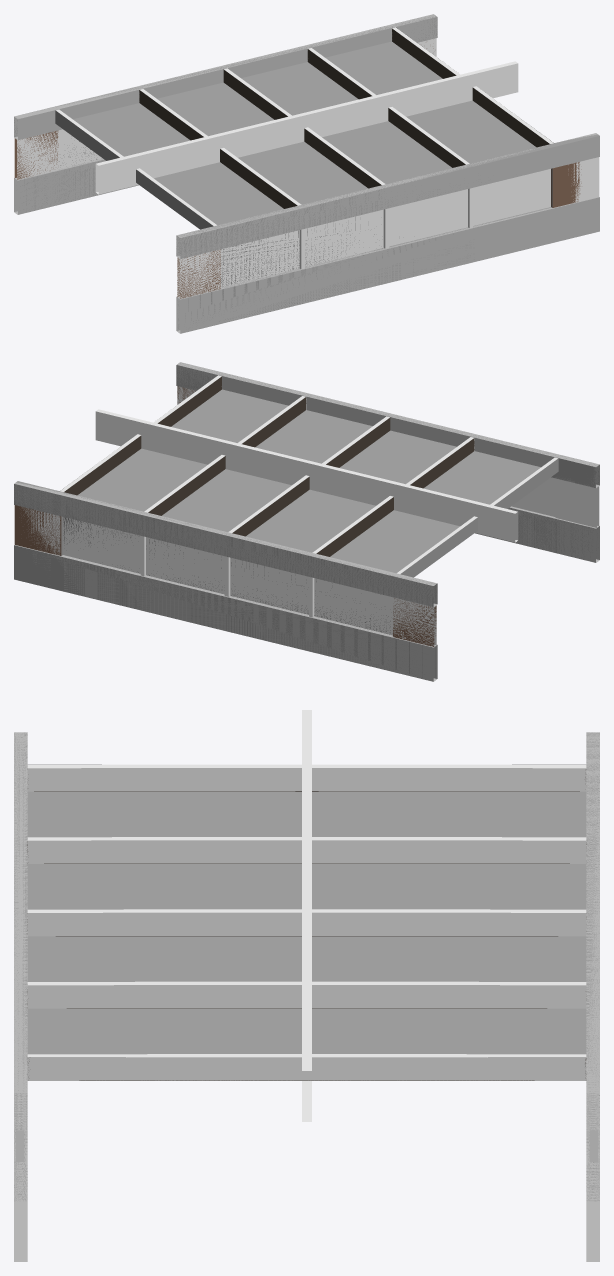
The model's file is s_wh_roof_elevation_short.dae.
The picture shows the model from 3 angles, top to bottom: view 1: azimuth 30°, elevation 25°; view 2: azimuth 150°, elevation 25°; view 3: azimuth 270°, elevation 25°; orthographic projection. The views are drawn at different scales.
Parts seen in each view (by area): view 1: s_wh_roof_elevation_short_L80, Colmesh_s_wh_roof_elevation_short-1, s_wh_roof_elevation_short_L40, s_wh_roof_elevation_short_L250; view 2: s_wh_roof_elevation_short_L80, Colmesh_s_wh_roof_elevation_short-1, s_wh_roof_elevation_short_L40, s_wh_roof_elevation_short_L250; view 3: Colmesh_s_wh_roof_elevation_short-1, s_wh_roof_elevation_short_L80, s_wh_roof_elevation_short_L250, s_wh_roof_elevation_short_L40.
Boxes of the visible parts, left/top/right/bottom form: s_wh_roof_elevation_short_L80: left=14, top=14, right=599, bottom=333; Colmesh_s_wh_roof_elevation_short-1: left=14, top=14, right=599, bottom=328; s_wh_roof_elevation_short_L40: left=139, top=28, right=549, bottom=208; s_wh_roof_elevation_short_L250: left=56, top=27, right=553, bottom=268; s_wh_roof_elevation_short_L80: left=14, top=362, right=599, bottom=681; Colmesh_s_wh_roof_elevation_short-1: left=14, top=363, right=599, bottom=678; s_wh_roof_elevation_short_L40: left=64, top=376, right=474, bottom=556; s_wh_roof_elevation_short_L250: left=60, top=375, right=557, bottom=616; Colmesh_s_wh_roof_elevation_short-1: left=14, top=732, right=599, bottom=1201; s_wh_roof_elevation_short_L80: left=14, top=732, right=599, bottom=1261; s_wh_roof_elevation_short_L250: left=16, top=710, right=597, bottom=1161; s_wh_roof_elevation_short_L40: left=27, top=777, right=586, bottom=1080.
Size of the model in its own units: 9.98 by 6.85 by 2.46.
